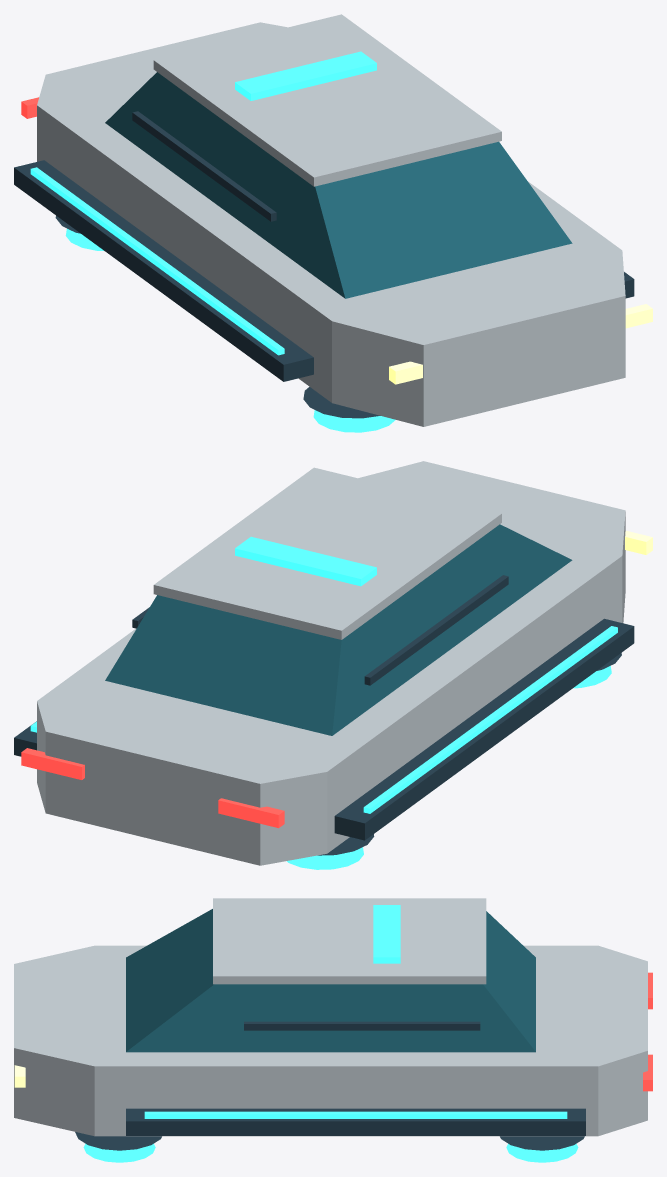
Rendered from air_municipal.glb.
3 renders of one model, top to bottom at view 1: azimuth 30°, elevation 25°; view 2: azimuth 150°, elevation 25°; view 3: azimuth 270°, elevation 25°, orthographic. The views are drawn at different scales.
Parts seen in each view (by area): view 1: air_municipal; view 2: air_municipal; view 3: air_municipal.
Boxes of the visible parts, x1,y1,x2,y2 form: air_municipal: [14, 14, 652, 432]; air_municipal: [14, 461, 652, 869]; air_municipal: [14, 898, 652, 1162].
Size of the model in its own units: 2.78 by 1.52 by 5.14.
